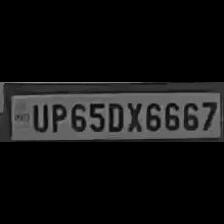5: (86, 100, 106, 132)
6: (66, 100, 86, 132), (142, 100, 160, 132), (162, 99, 180, 130), (180, 99, 198, 130)
7: (200, 99, 216, 131)
D: (105, 100, 124, 132)
P: (47, 101, 66, 133)
U: (28, 100, 48, 132)
X: (124, 100, 142, 132)
